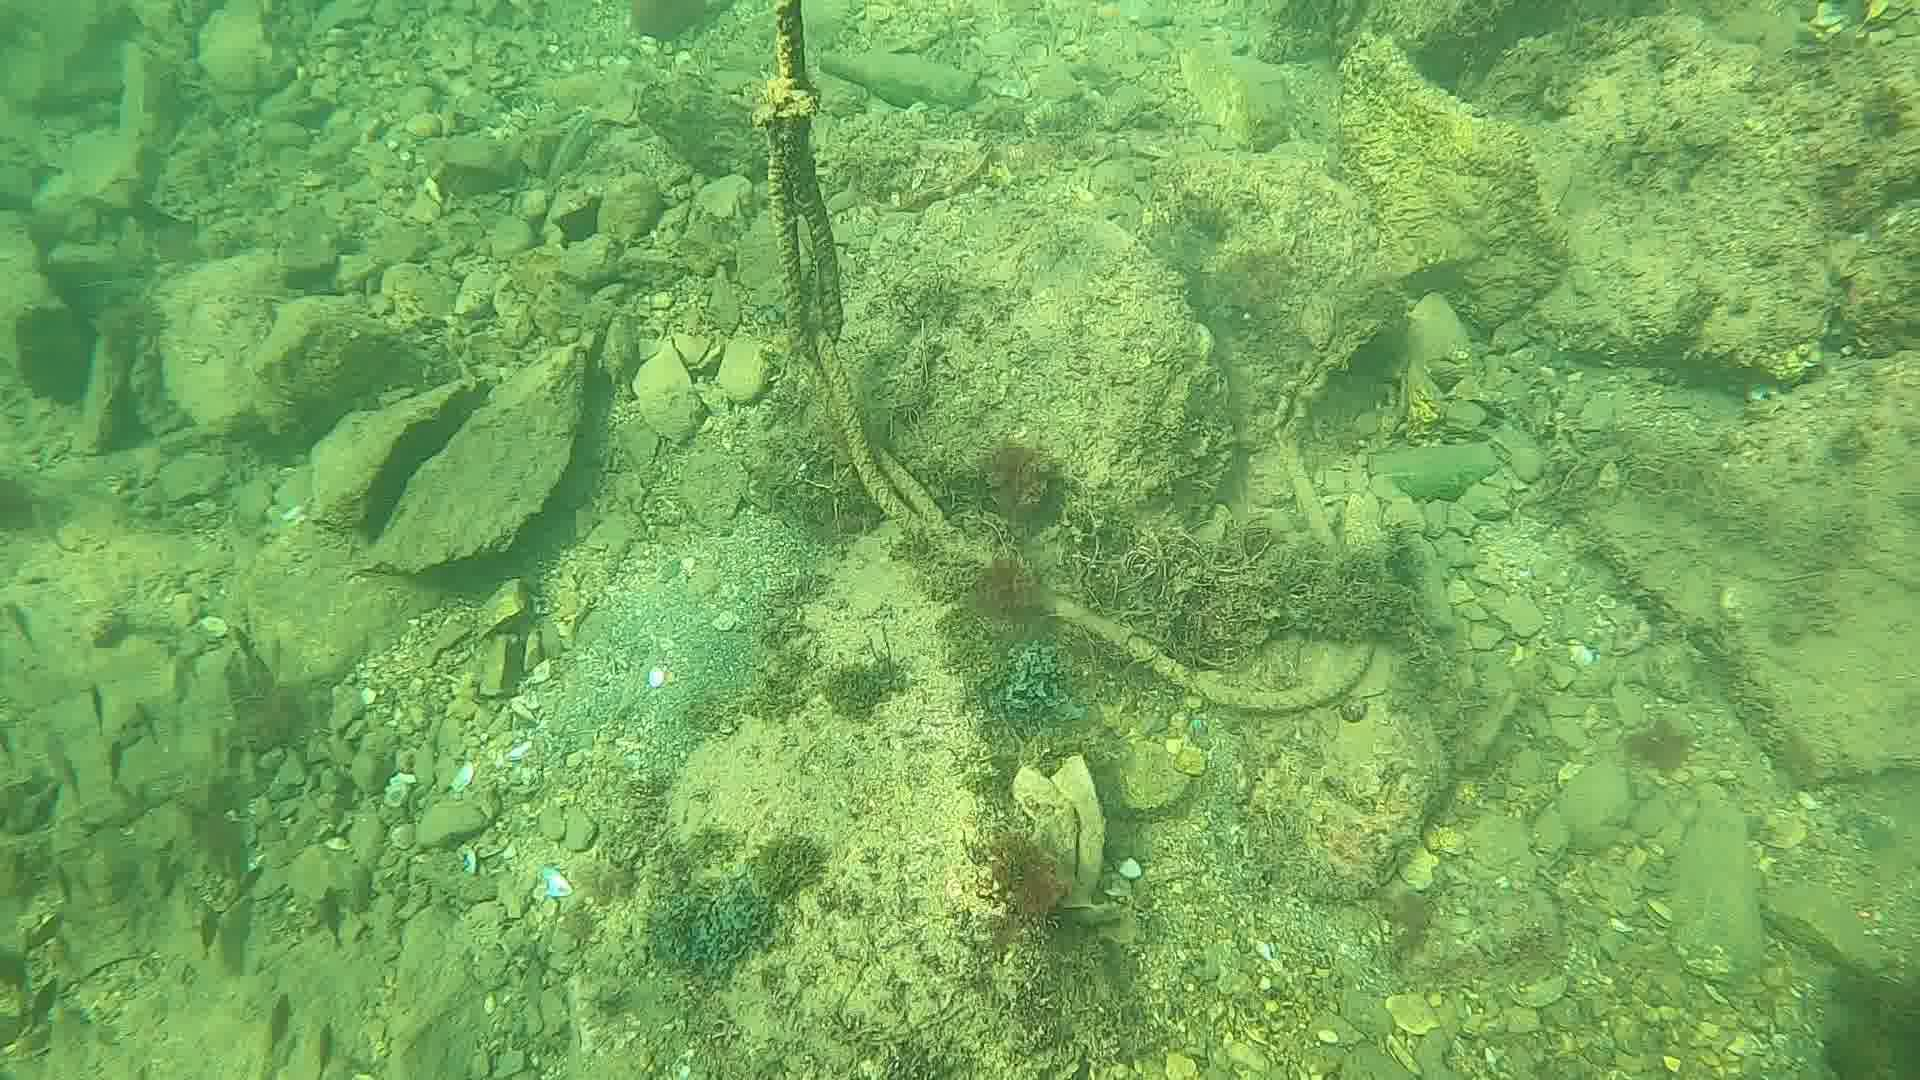bundle of ropes: (754, 1, 1378, 715)
